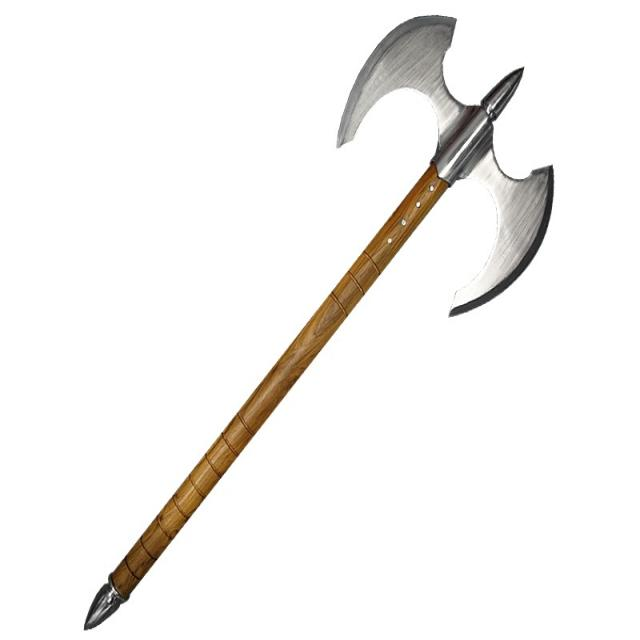Gun: (88, 9, 565, 627)
